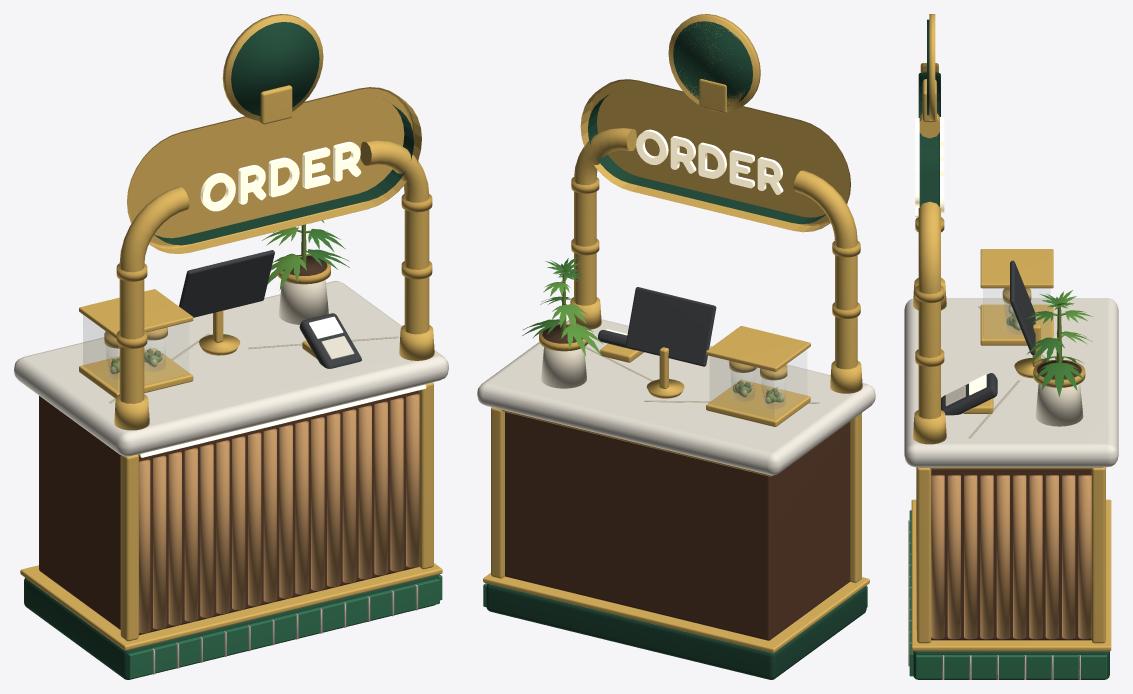
The model's file is order_desk_tier5.glb.
3 renders of one model, left to right at view 1: azimuth 30°, elevation 25°; view 2: azimuth 150°, elevation 25°; view 3: azimuth 270°, elevation 25°, orthographic. The views are drawn at different scales.
Parts seen in each view (by area): view 1: Top, Body, SignBorder, PlinthTile, PlinthBrass, Roundel, ArchPost-1, ArchPost1, Plinth, SignText0, Tablet, DisplayGlass (+32 smaller); view 2: Body, Top, SignBorder, Plinth, Tablet, PlinthBrass, Roundel, DisplayGlass, ArchPost-1, ArchPost1, SignText1, DisplayCap (+13 smaller); view 3: Top, Body, ArchPost1, PlinthTileSide, PlinthBrass, DisplayCap, Corner1, Corner+XB, FluteEnd3, FluteEnd6, FluteEnd0, FluteEnd9 (+24 smaller).
Boxes of the visible parts, x1=… form: Top: x1=14, y1=281, x2=448, y2=456; Body: x1=39, y1=390, x2=418, y2=635; SignBorder: x1=127, y1=87, x2=421, y2=253; PlinthTile: x1=127, y1=578, x2=439, y2=678; PlinthBrass: x1=20, y1=563, x2=442, y2=650; Roundel: x1=231, y1=22, x2=319, y2=115; ArchPost-1: x1=119, y1=186, x2=189, y2=403; ArchPost1: x1=360, y1=140, x2=429, y2=334; Plinth: x1=24, y1=575, x2=438, y2=679; SignText0: x1=200, y1=141, x2=361, y2=211; Tablet: x1=179, y1=250, x2=274, y2=317; DisplayGlass: x1=83, y1=315, x2=188, y2=390; Body: x1=505, y1=412, x2=850, y2=640; Top: x1=477, y1=319, x2=875, y2=475; SignBorder: x1=580, y1=79, x2=850, y2=232; Plinth: x1=486, y1=583, x2=866, y2=679; Tablet: x1=625, y1=287, x2=716, y2=366; PlinthBrass: x1=483, y1=573, x2=869, y2=653; Roundel: x1=673, y1=21, x2=752, y2=106; DisplayGlass: x1=710, y1=350, x2=806, y2=418; ArchPost-1: x1=793, y1=170, x2=857, y2=369; ArchPost1: x1=574, y1=128, x2=636, y2=305; SignText1: x1=636, y1=129, x2=783, y2=194; DisplayCap: x1=706, y1=326, x2=810, y2=371; Top: x1=904, y1=298, x2=1118, y2=467; Body: x1=931, y1=469, x2=1091, y2=640; ArchPost1: x1=918, y1=201, x2=940, y2=419; PlinthTileSide: x1=915, y1=654, x2=1107, y2=678; PlinthBrass: x1=911, y1=499, x2=1111, y2=651; DisplayCap: x1=980, y1=249, x2=1053, y2=288; Corner1: x1=917, y1=467, x2=931, y2=643; Corner+XB: x1=1091, y1=467, x2=1105, y2=643; FluteEnd3: x1=980, y1=475, x2=993, y2=639; FluteEnd6: x1=1029, y1=475, x2=1042, y2=639; FluteEnd0: x1=931, y1=475, x2=944, y2=639; FluteEnd9: x1=1078, y1=475, x2=1091, y2=639.
Bounding box in the file's own units: 1.29 × 2.31 × 0.76.
